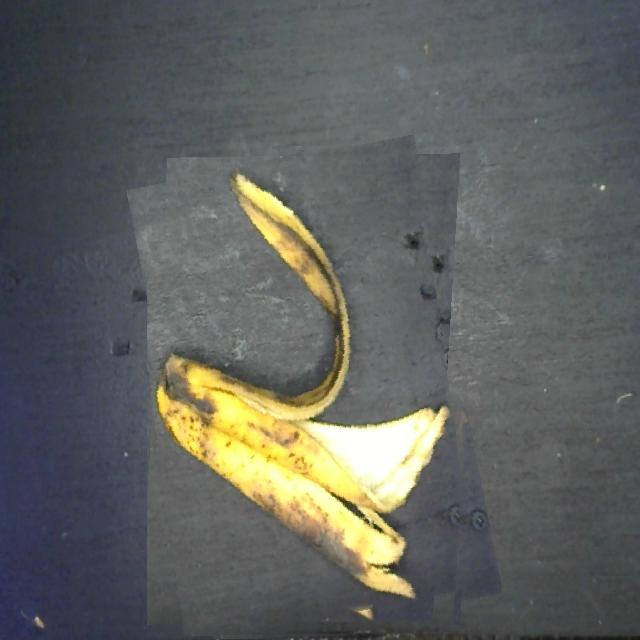biodegradable: (147, 146, 482, 637)
